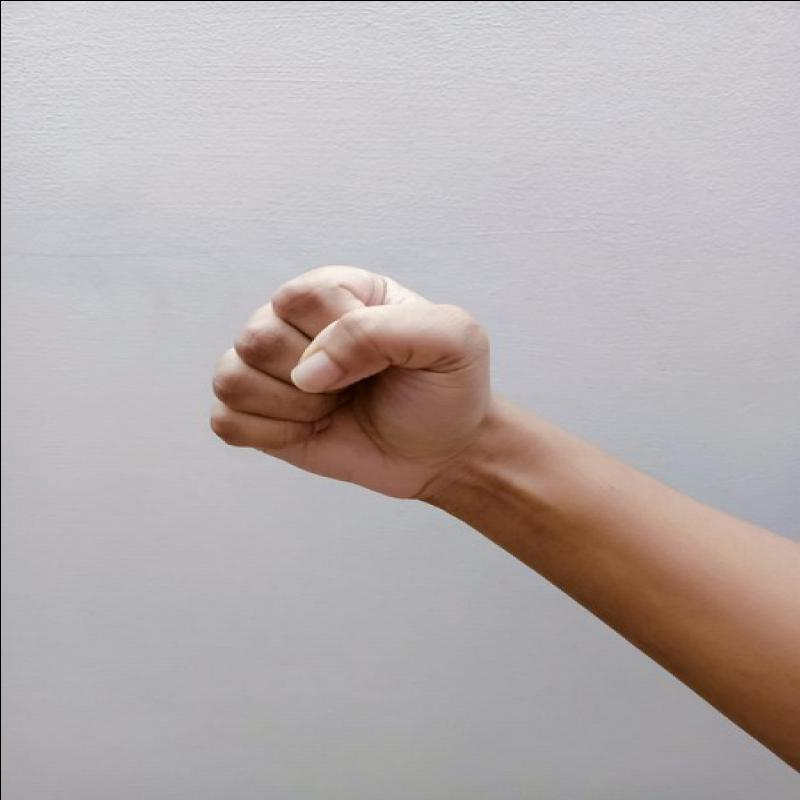Mushti: (190, 238, 509, 529)
